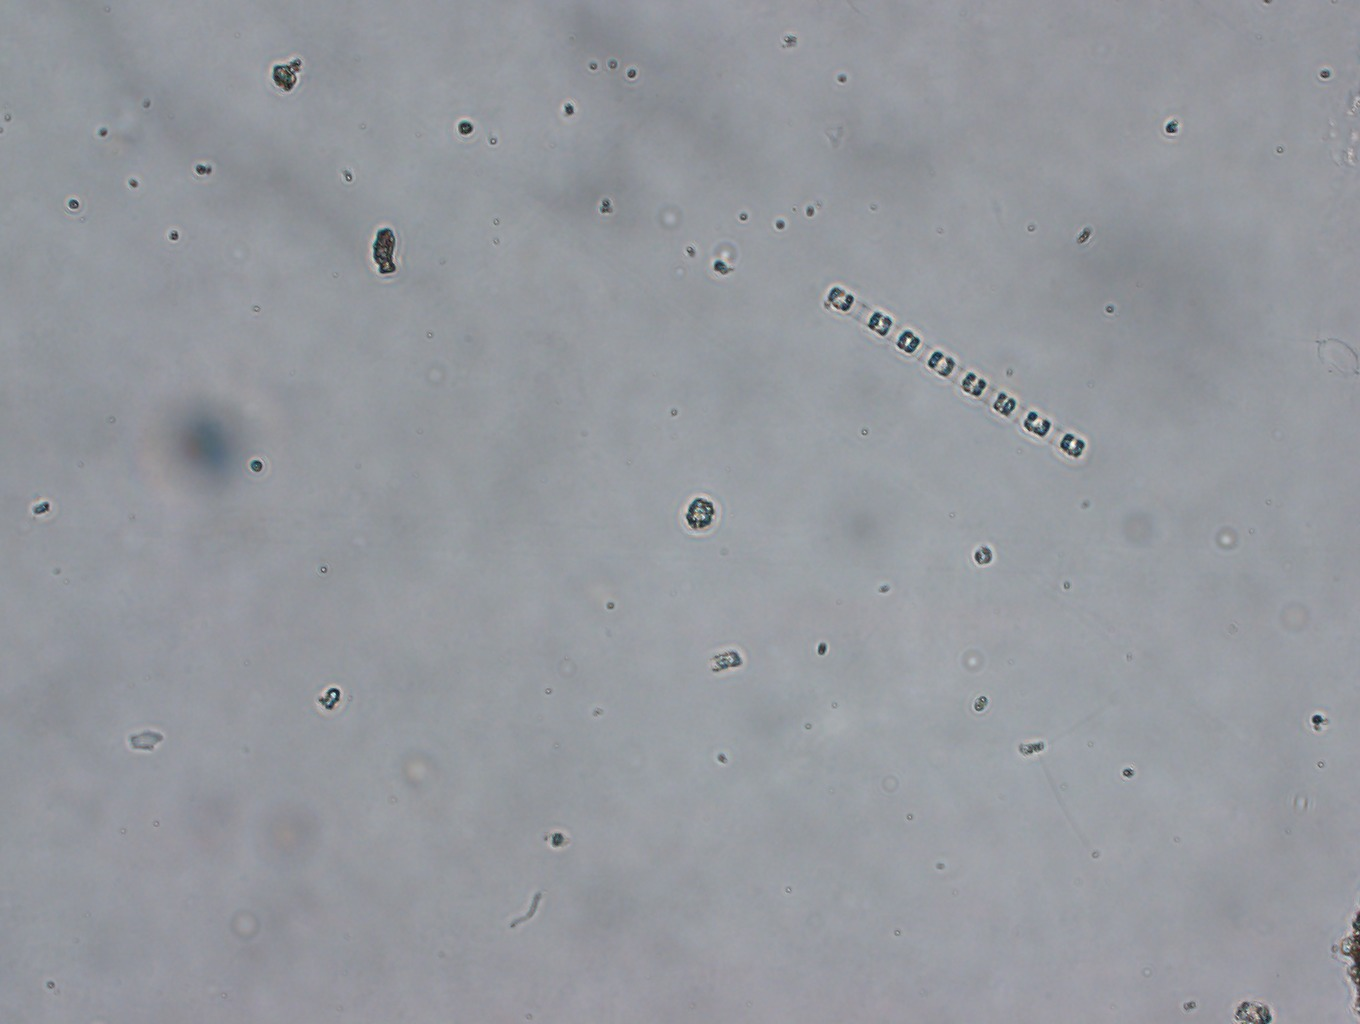skeletonema: (818, 282, 1089, 463)
